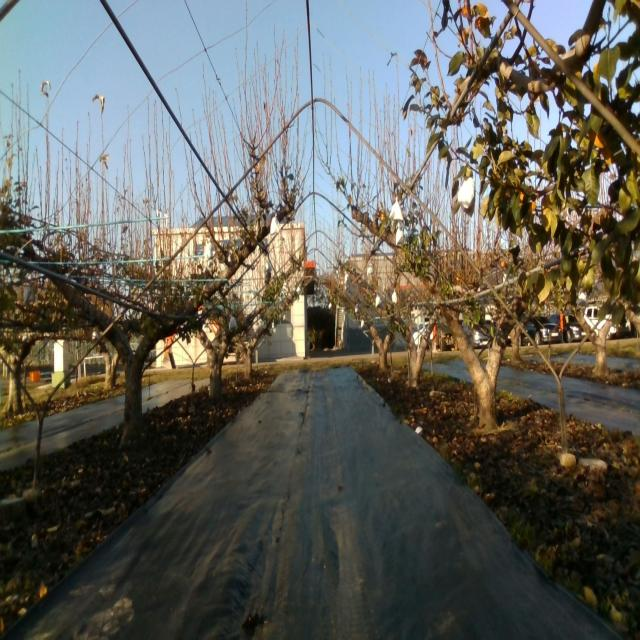pearbags: (457, 176, 477, 218), (394, 219, 410, 248), (389, 195, 403, 220), (270, 214, 282, 236), (204, 240, 216, 261)
